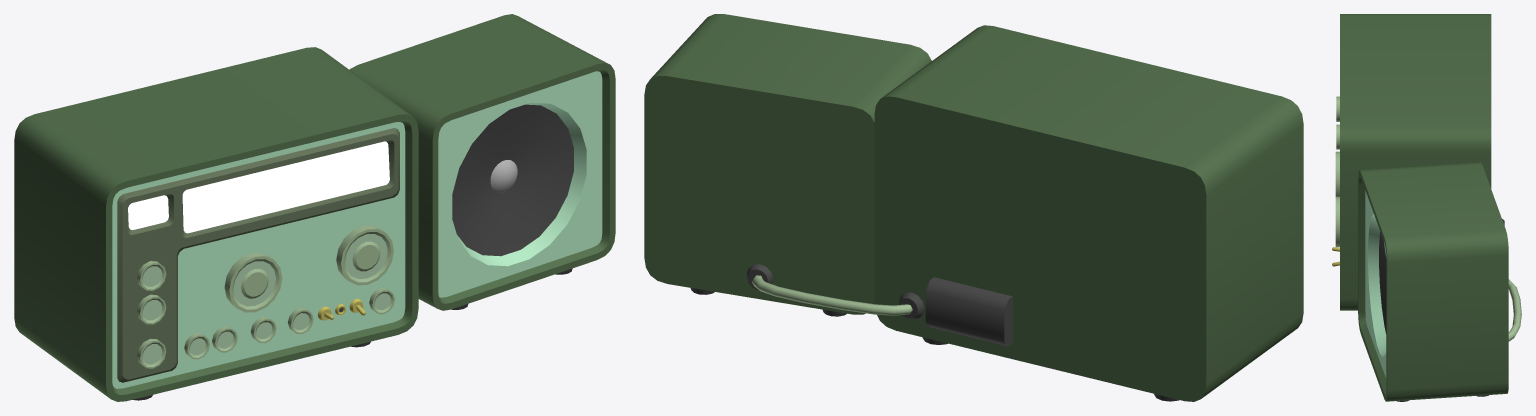
File: radio_model.glb
3 views of the same model, side by side, from view 1: azimuth 30°, elevation 25°; view 2: azimuth 150°, elevation 25°; view 3: azimuth 270°, elevation 25° (orthographic). The views are drawn at different scales.
Parts seen in each view (by area): view 1: radio_00_02 - Default_0, radio_00_09 - Default_0, radio_00_08 - Default_0, radio_00_03 - Default_0, radio_00_07 - Default_0, radio_00_04 - Default_0, radio_00_05 - Default_0, radio_00_11 - Default_0; view 2: radio_00_02 - Default_0, radio_00_03 - Default_0, radio_00_04 - Default_0; view 3: radio_00_02 - Default_0, radio_00_09 - Default_0, radio_00_04 - Default_0, radio_00_03 - Default_0.
Part boxes in pixels (left/top/right/bottom): radio_00_02 - Default_0: left=14, top=14, right=615, bottom=401; radio_00_09 - Default_0: left=112, top=71, right=602, bottom=388; radio_00_08 - Default_0: left=117, top=128, right=399, bottom=382; radio_00_03 - Default_0: left=132, top=104, right=573, bottom=400; radio_00_07 - Default_0: left=128, top=141, right=389, bottom=233; radio_00_04 - Default_0: left=137, top=225, right=394, bottom=368; radio_00_05 - Default_0: left=142, top=234, right=390, bottom=364; radio_00_11 - Default_0: left=490, top=160, right=517, bottom=192; radio_00_02 - Default_0: left=644, top=14, right=1303, bottom=401; radio_00_03 - Default_0: left=690, top=264, right=1179, bottom=401; radio_00_04 - Default_0: left=752, top=275, right=912, bottom=315; radio_00_02 - Default_0: left=1340, top=14, right=1508, bottom=401; radio_00_09 - Default_0: left=1365, top=191, right=1386, bottom=378; radio_00_04 - Default_0: left=1335, top=96, right=1521, bottom=341; radio_00_03 - Default_0: left=1379, top=219, right=1504, bottom=401.
Bounding box in the file's own units: 34.04 × 13.95 × 12.56.
